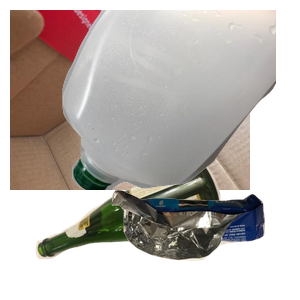cardboard: (10, 10, 250, 190)
glass: (33, 158, 246, 300)
plastic: (60, 10, 300, 190)
trash: (109, 187, 300, 300)
